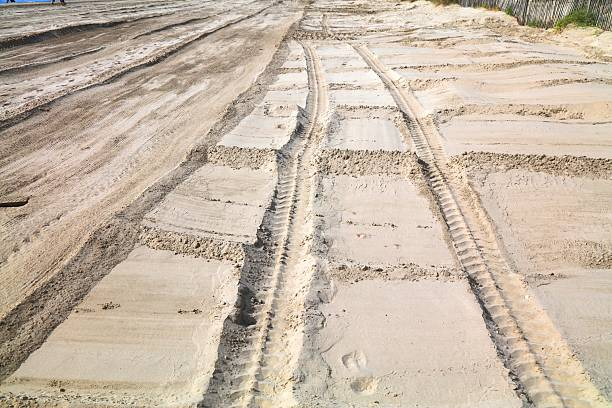vehicle_track: (355, 45, 608, 407), (201, 44, 327, 406), (0, 0, 278, 128)
